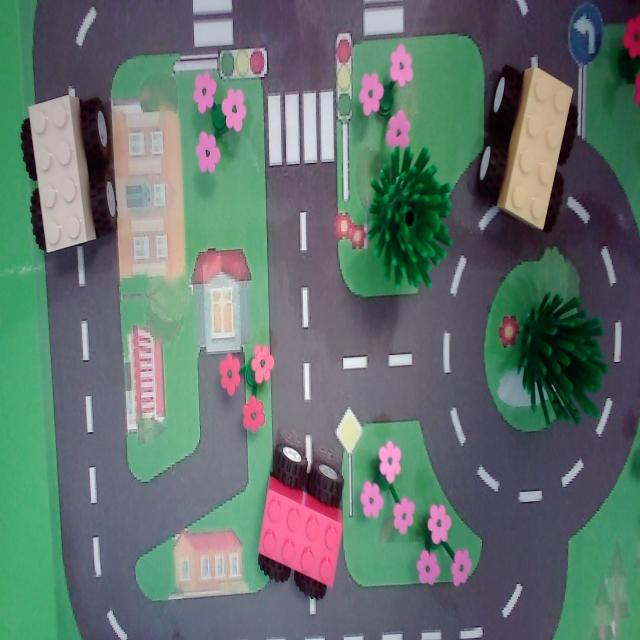Car: (18, 80, 118, 264), (471, 63, 581, 229), (252, 438, 351, 606)
Flower: (354, 40, 421, 156), (188, 56, 252, 176), (357, 432, 420, 540), (216, 335, 280, 440), (414, 494, 470, 596)
Tree: (508, 279, 611, 434), (364, 144, 456, 293)
